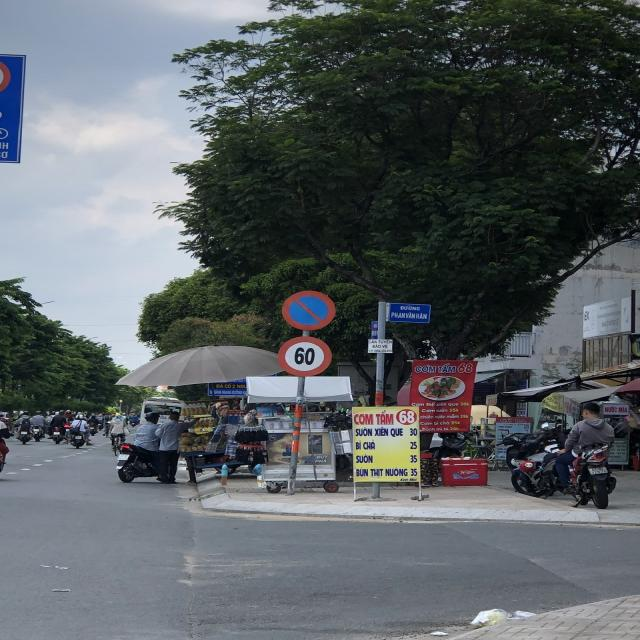Bien bao cam do xe: (273, 283, 345, 334)
Bien bao toc do toi da cho phep: (278, 333, 339, 381)
